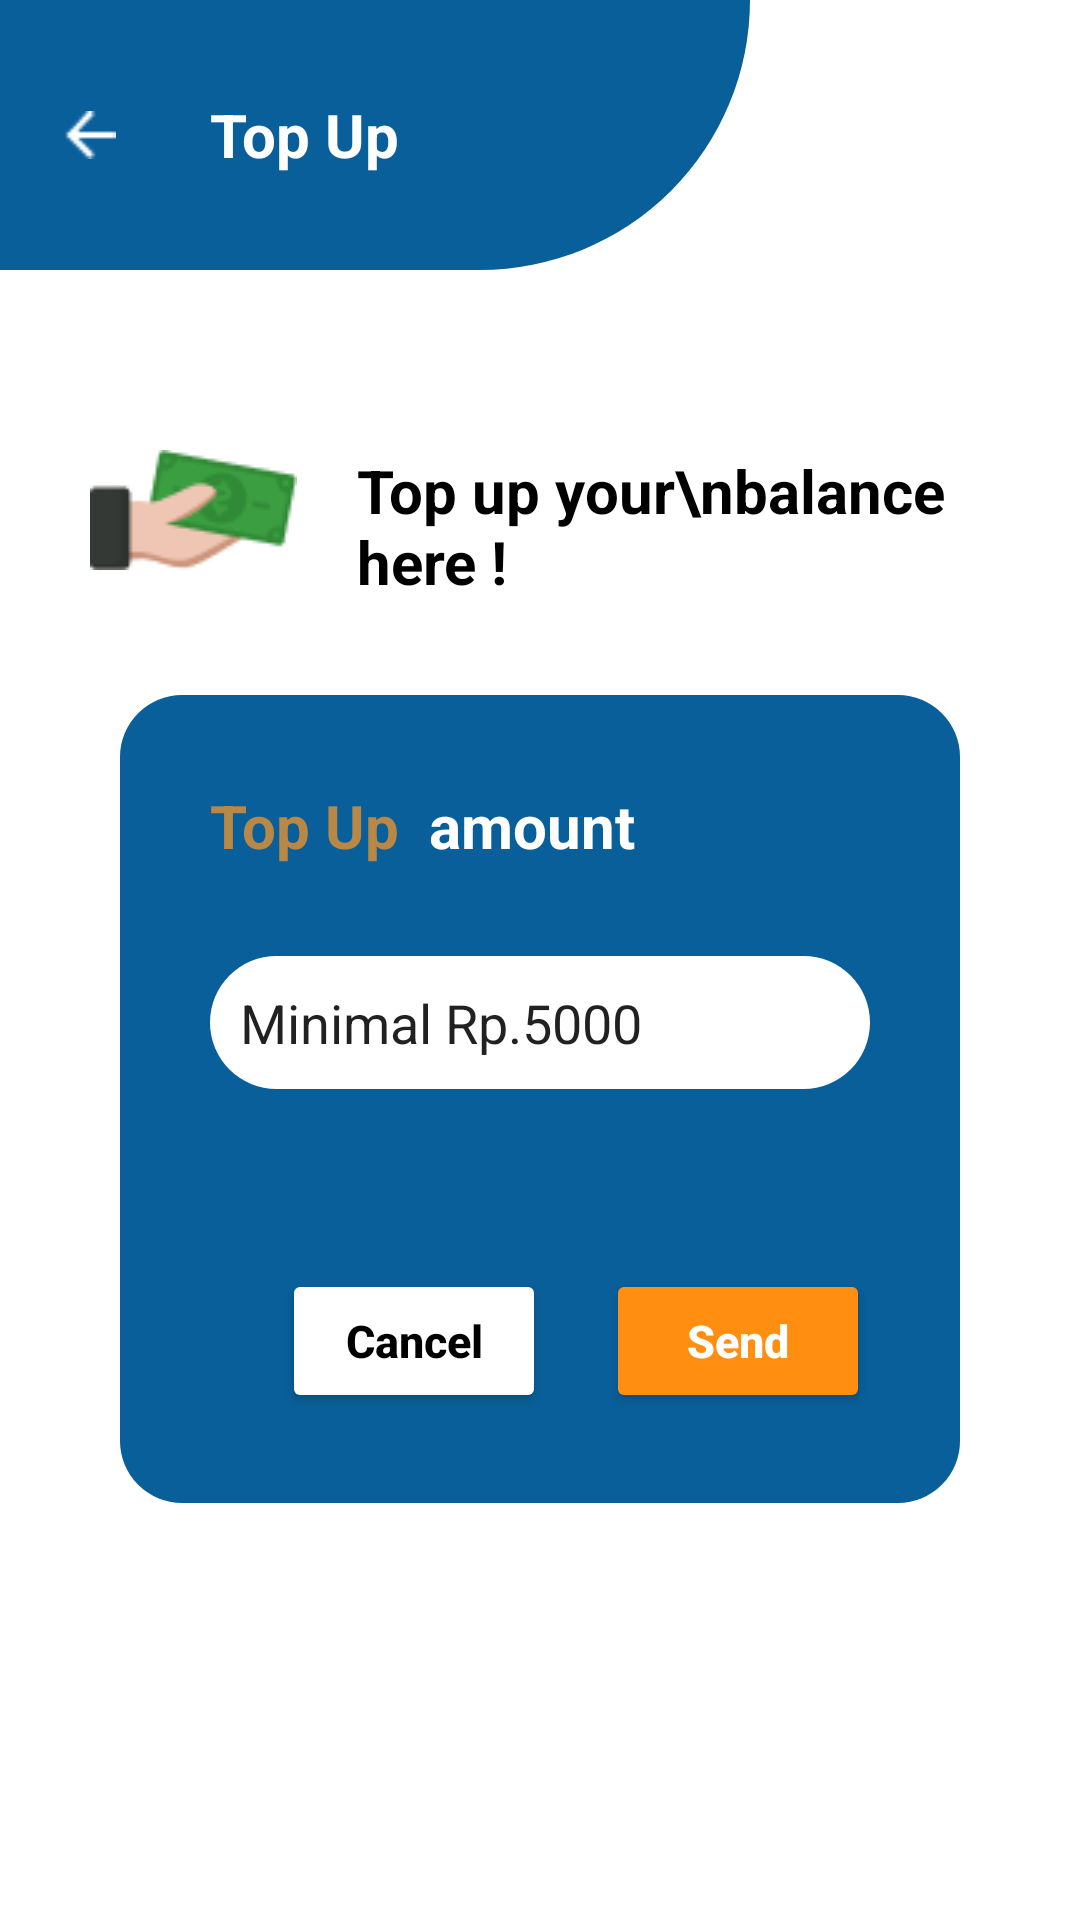

Icon click points for this 1080×1920 phone screenshot, format point (x, y):
back: point (90, 135)
vectorpayment: point (193, 510)
